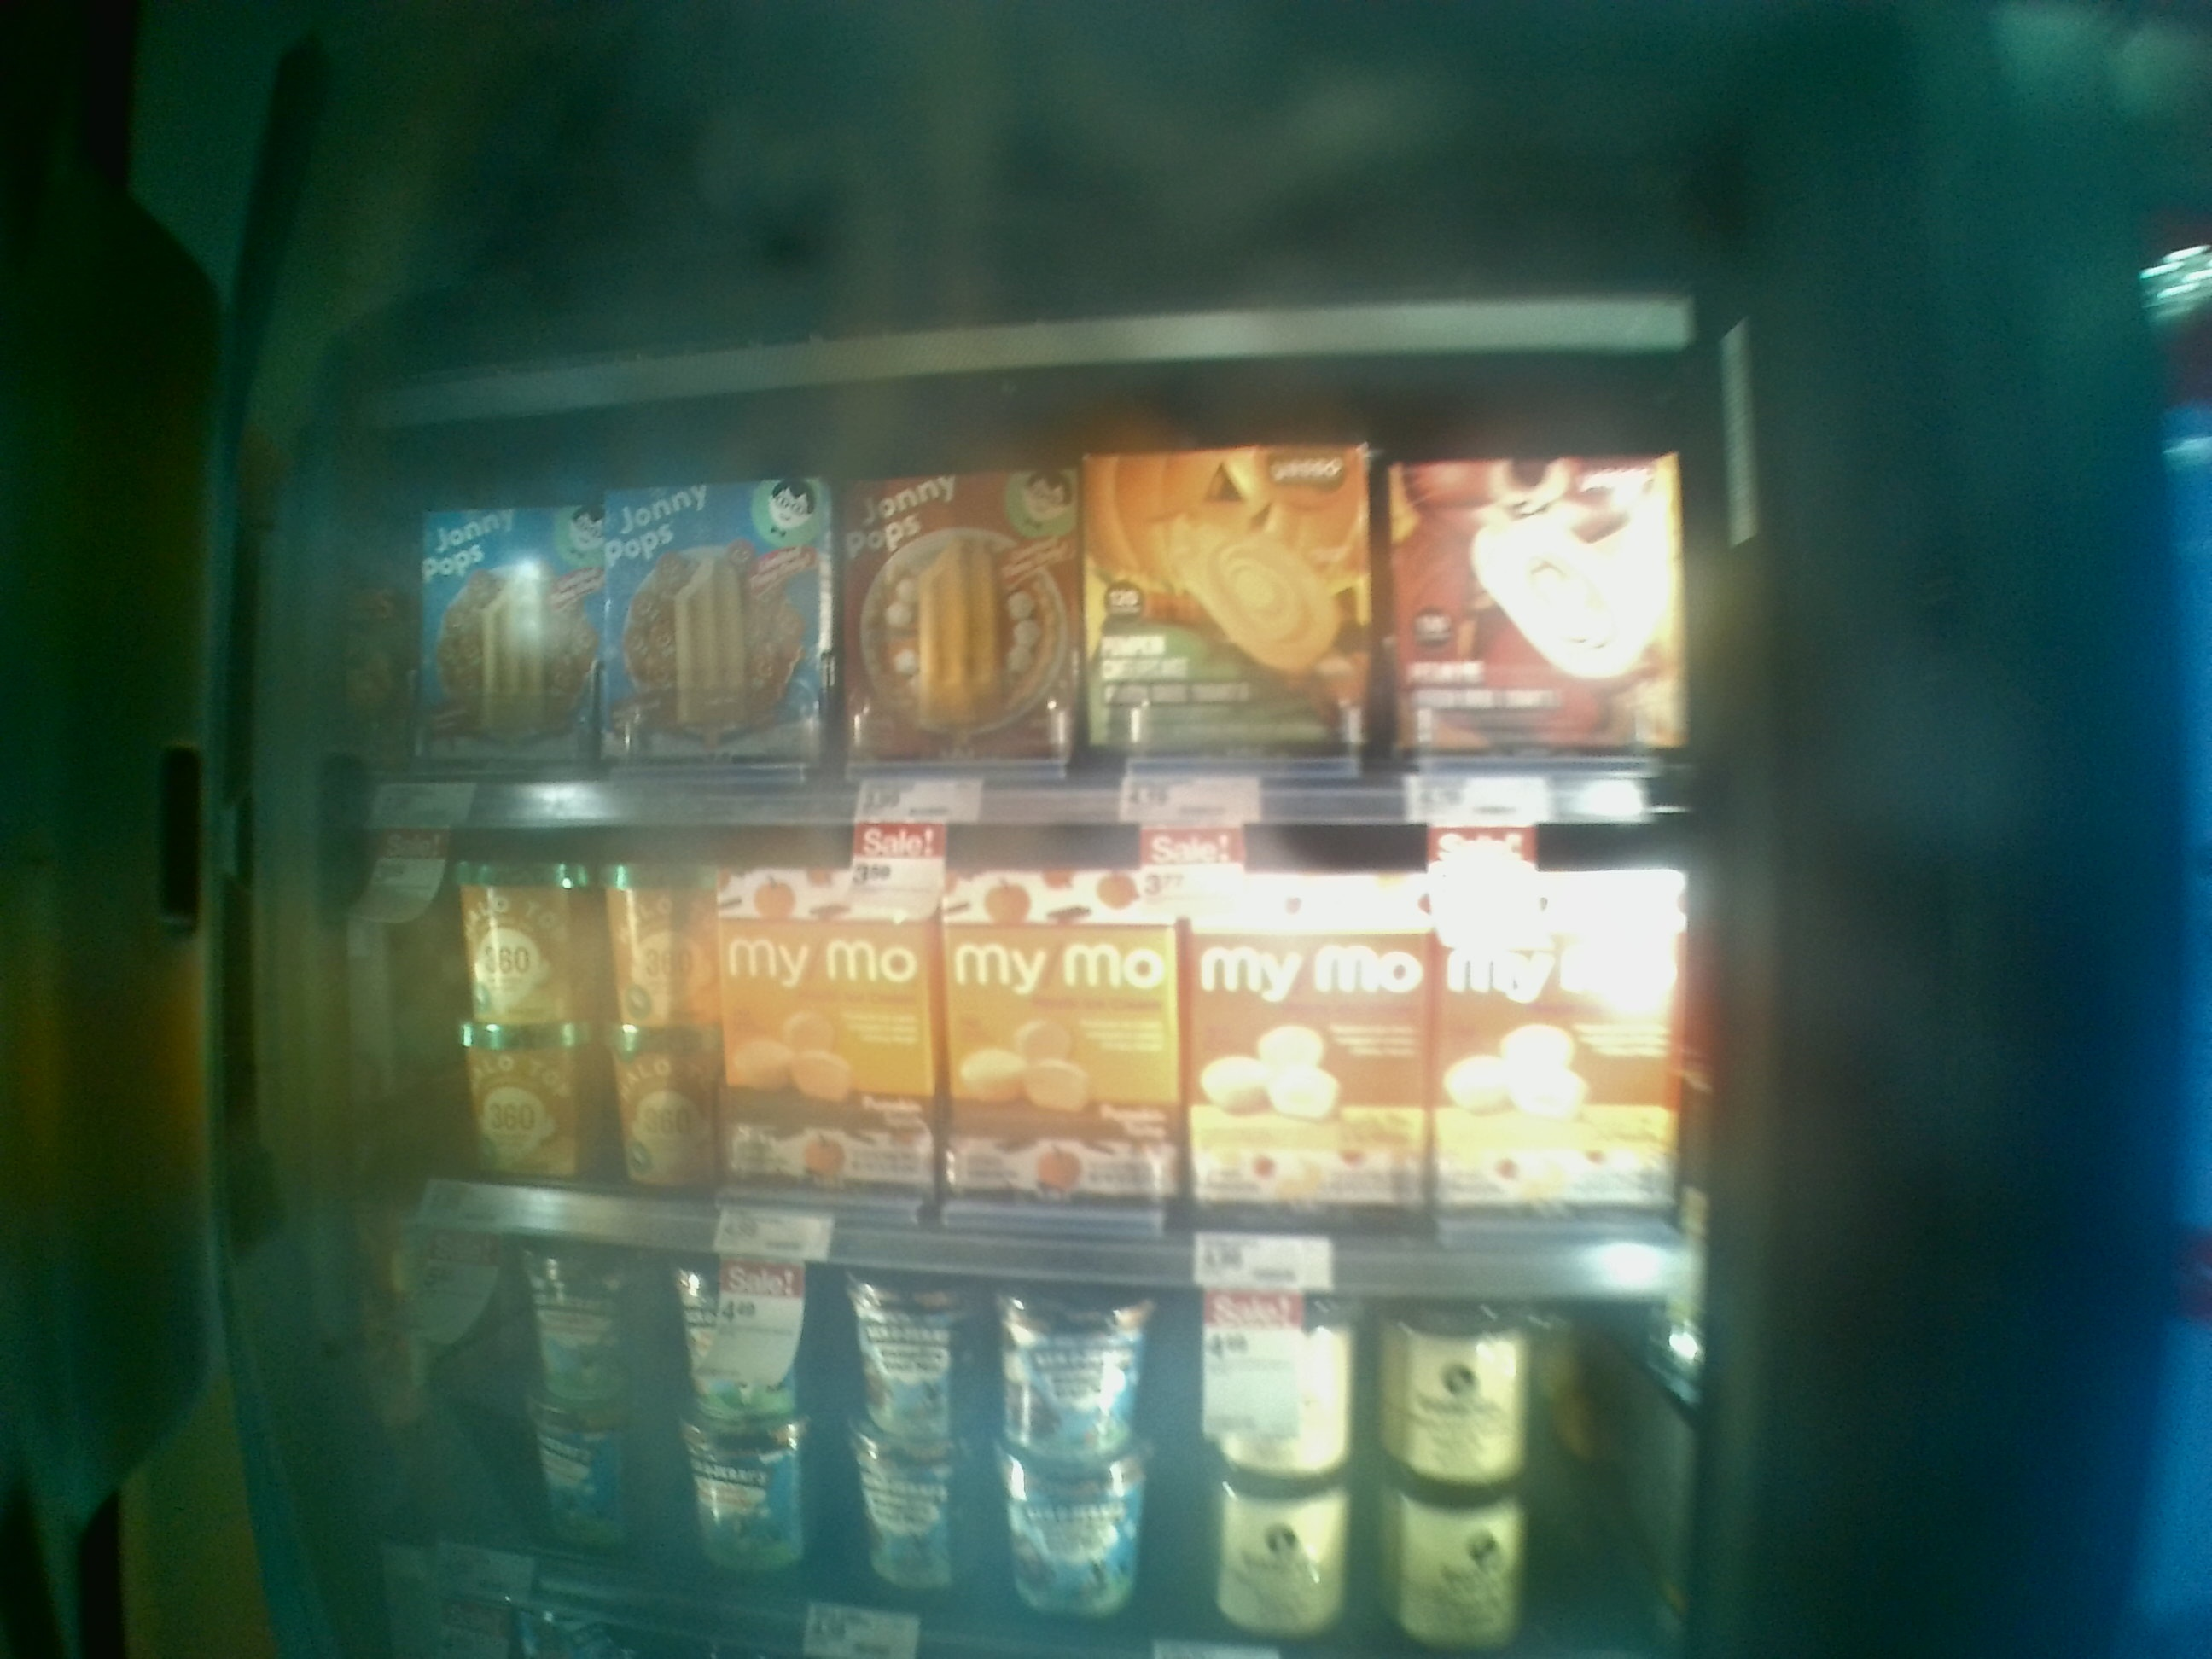shelf: (301, 826, 1721, 1298), (303, 423, 1719, 812)
